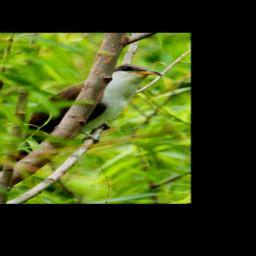Cuckoo: (0, 63, 167, 172)
